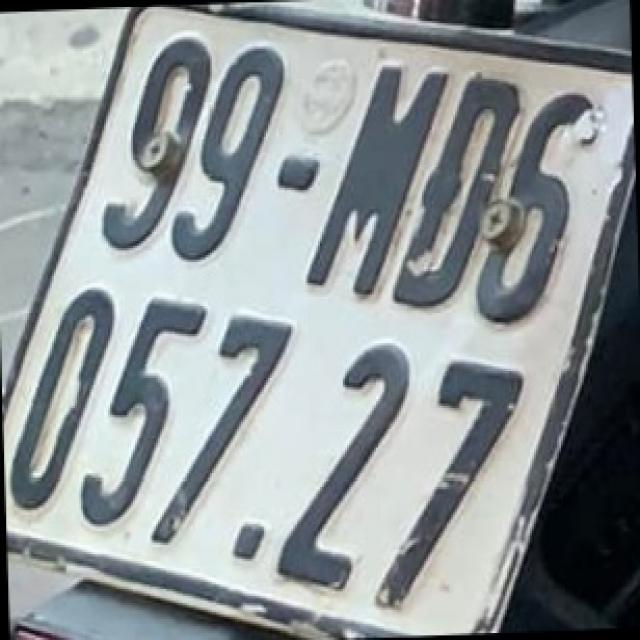0: (8, 283, 106, 508)
2: (276, 336, 401, 596)
7: (384, 350, 516, 617), (162, 308, 287, 556), (88, 290, 200, 533)
M: (305, 60, 449, 290)
U: (100, 27, 204, 254)
